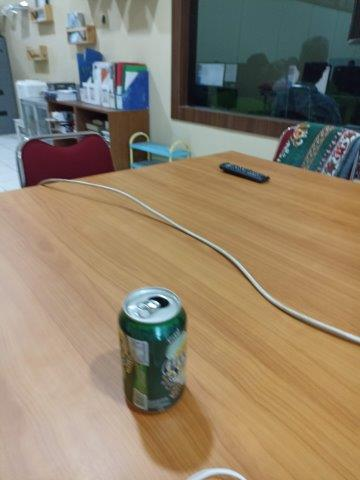kaleng: (117, 286, 188, 414)
